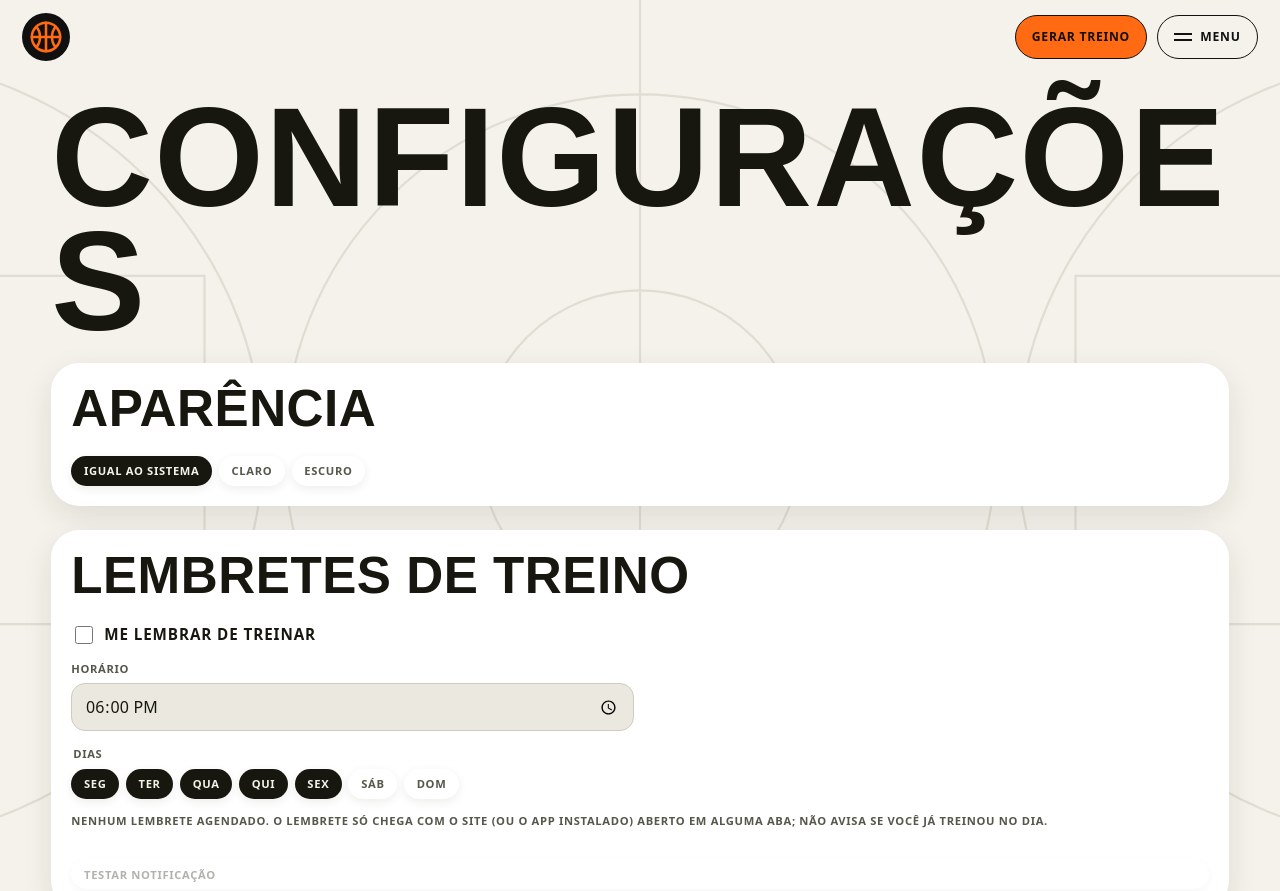
Test: Configurações › só liga os lembretes se o navegador permitir notificações
The width and height of the screenshot is (1280, 891).
Step 1. Click the checkbox labelled "Me lembrar de treinar" → (84,635), box [75,626,93,644]
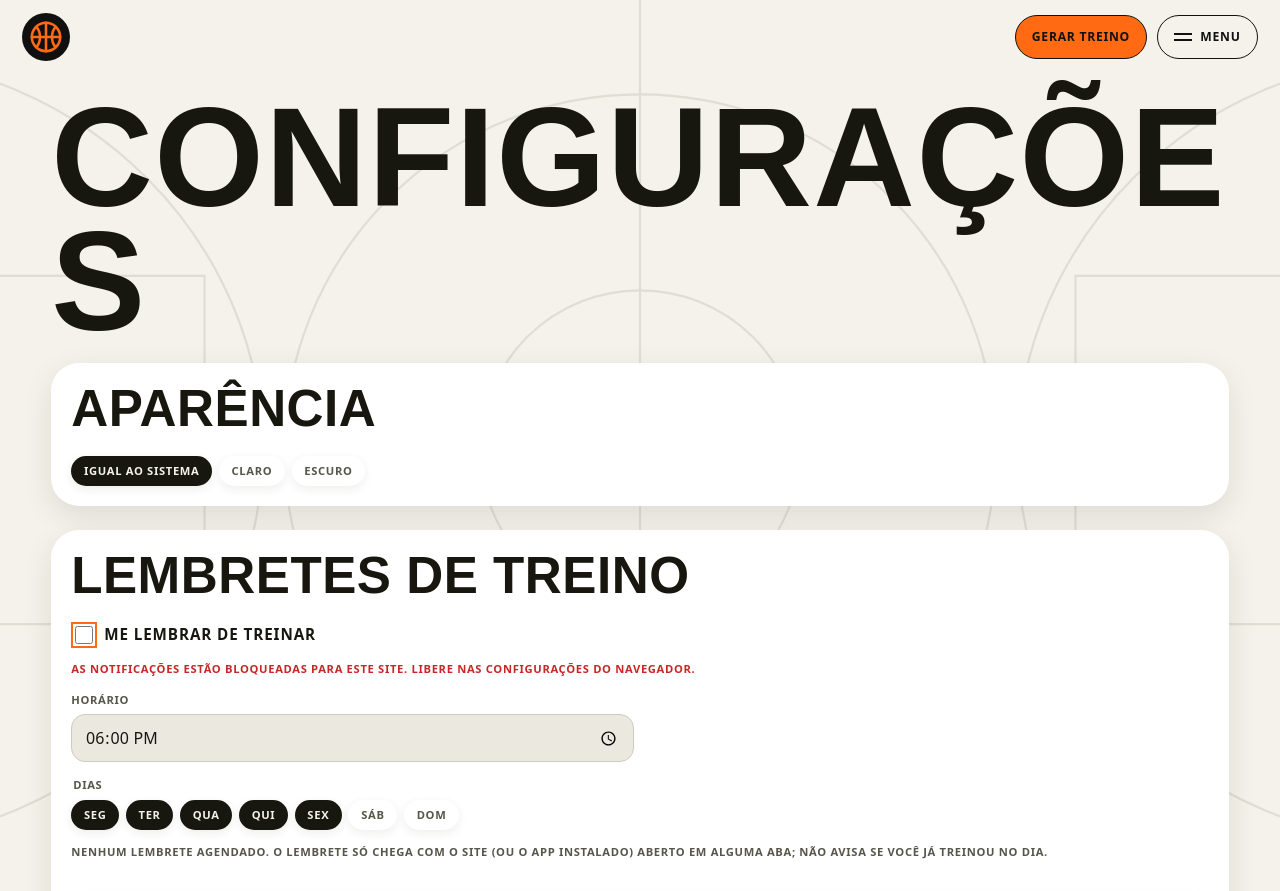
Result: the text "notificações estão bloqueadas" is shown at [71,661,696,676]
